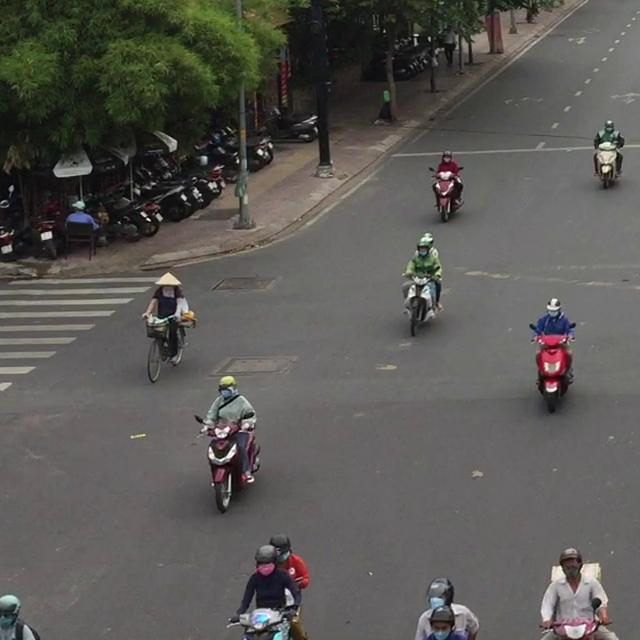Motorcycle: (193, 413, 261, 513), (528, 321, 576, 413), (401, 271, 442, 336), (428, 165, 465, 222), (592, 133, 624, 188)
